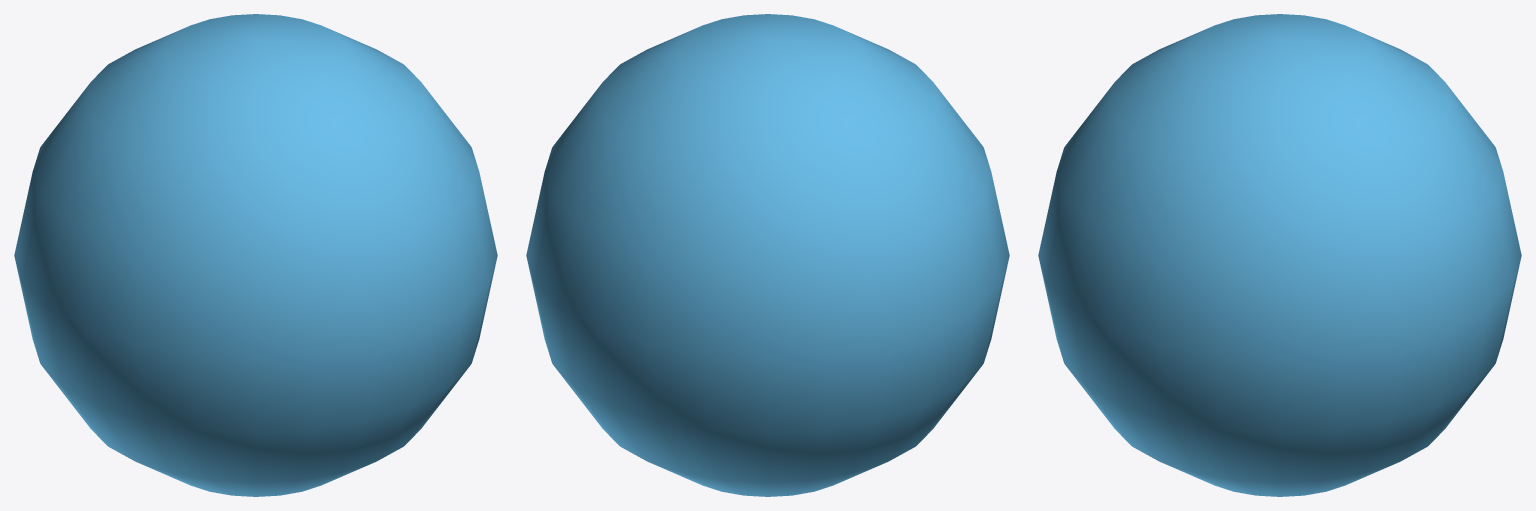
The model's file is upgrade.fbx.
The picture shows the model from 3 angles, left to right: view 1: azimuth 30°, elevation 25°; view 2: azimuth 150°, elevation 25°; view 3: azimuth 270°, elevation 25°; orthographic projection.
Visible parts, largest first — view 1: Sphere; view 2: Sphere; view 3: Sphere.
Part boxes in pixels (left/top/right/bottom): Sphere: left=14, top=14, right=497, bottom=496; Sphere: left=526, top=14, right=1009, bottom=496; Sphere: left=1038, top=14, right=1521, bottom=496.
Bounding box in the file's own units: 63.49 × 63.49 × 63.49.
